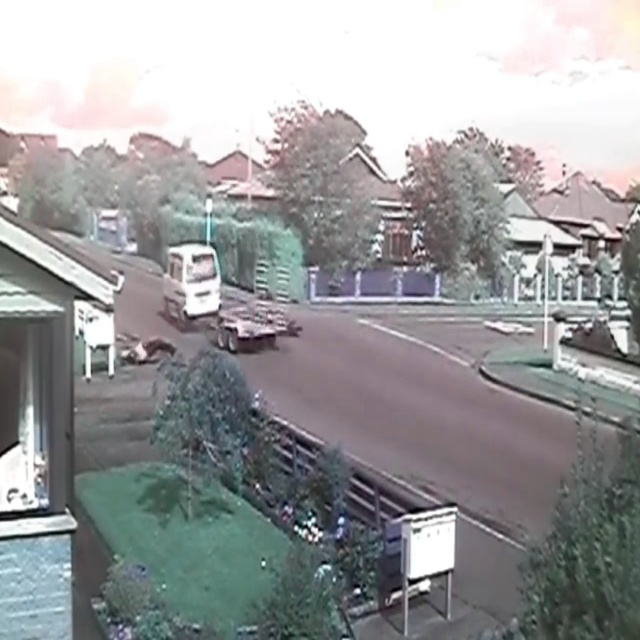acc: (116, 324, 204, 377)
